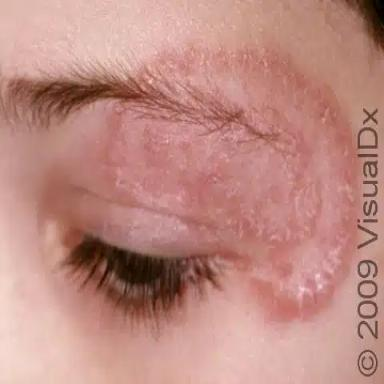Tinea-Corporis: (114, 47, 354, 316)
